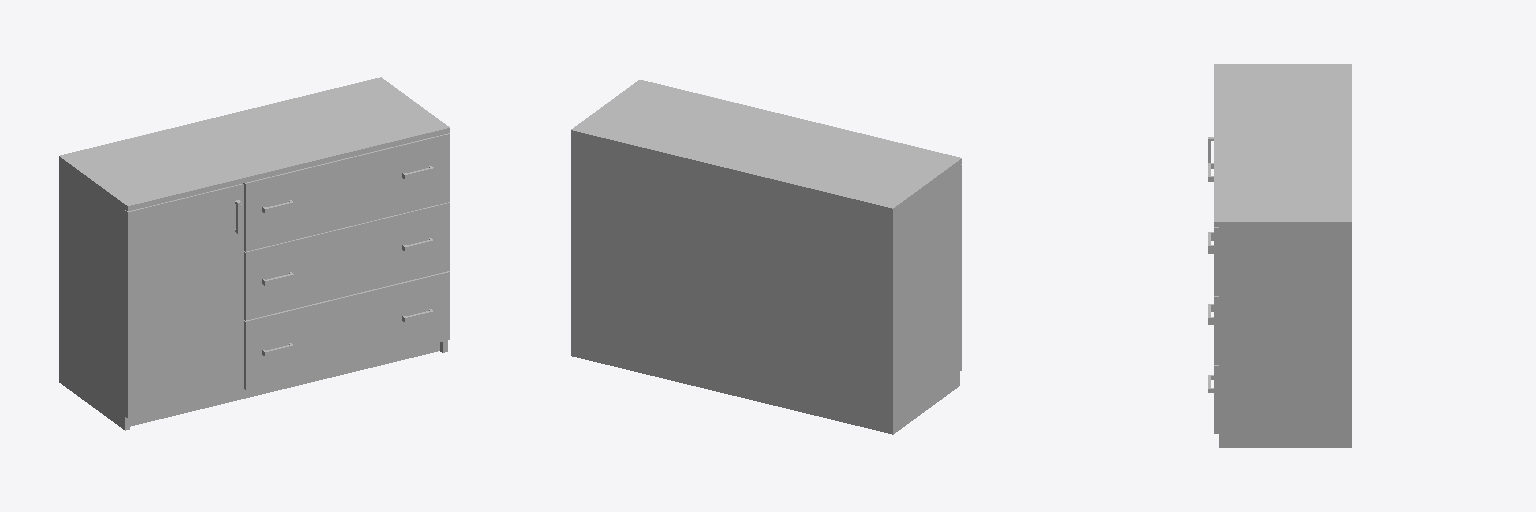
File: ЛОФТx4.obj
3 renders of one model, left to right at view 1: azimuth 30°, elevation 25°; view 2: azimuth 150°, elevation 25°; view 3: azimuth 270°, elevation 25°, orthographic.
Parts seen in each view (by area): view 1: Cube.004_Cube.005, Cube.003_Cube.004, Cube.008_Cube.009; view 2: Cube.003_Cube.004; view 3: Cube.003_Cube.004, Cube.004_Cube.005.
Part boxes in pixels (x1,y1,x2,y2): Cube.004_Cube.005: (125, 133, 449, 417); Cube.003_Cube.004: (59, 77, 449, 430); Cube.008_Cube.009: (235, 166, 433, 356); Cube.003_Cube.004: (571, 80, 961, 434); Cube.003_Cube.004: (1214, 64, 1351, 447); Cube.004_Cube.005: (1214, 227, 1218, 433).
Size of the model in its own units: 2.36 by 1.58 by 0.9169.